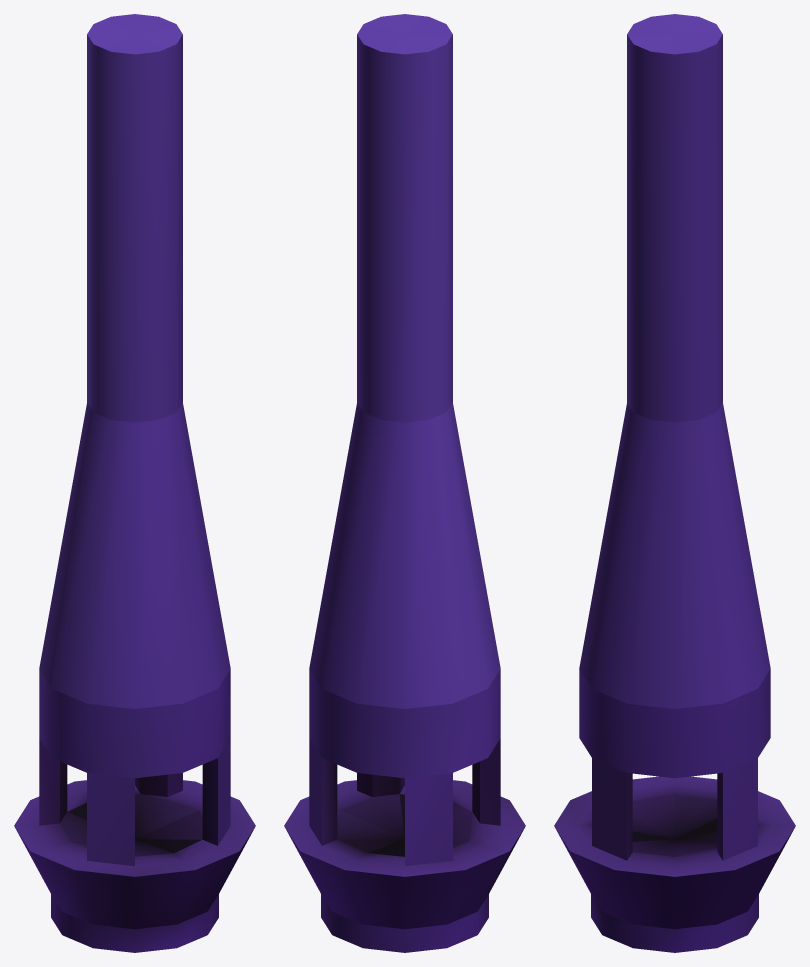
File: freestanding_fireplace.FBX
3 views of the same model, side by side, from view 1: azimuth 30°, elevation 25°; view 2: azimuth 150°, elevation 25°; view 3: azimuth 270°, elevation 25° (orthographic).
Visible parts, largest first — view 1: freestanding fireplace; view 2: freestanding fireplace; view 3: freestanding fireplace.
Boxes of the visible parts, x1=… form: freestanding fireplace: x1=14, y1=14, x2=255, y2=952; freestanding fireplace: x1=284, y1=14, x2=525, y2=952; freestanding fireplace: x1=554, y1=14, x2=795, y2=952.
Size of the model in its own units: 2.31 by 9.29 by 2.31.
